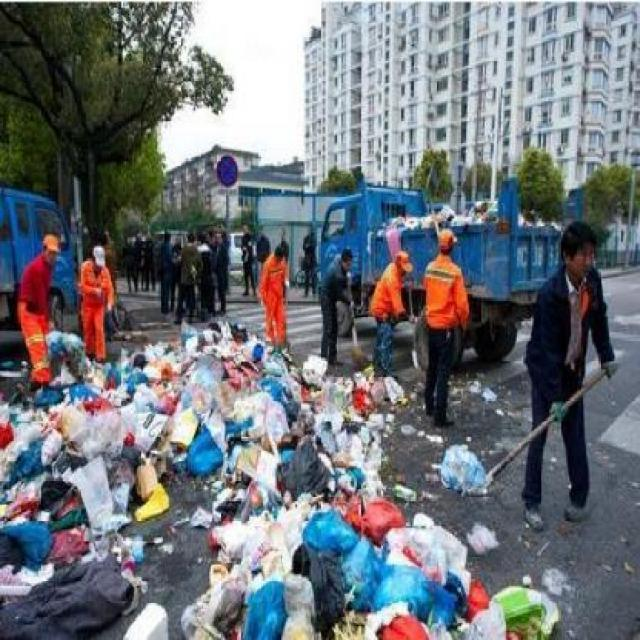garbage: (142, 345, 291, 639), (3, 371, 143, 638), (300, 362, 402, 638), (402, 417, 501, 632), (503, 574, 578, 638), (171, 312, 274, 356)
